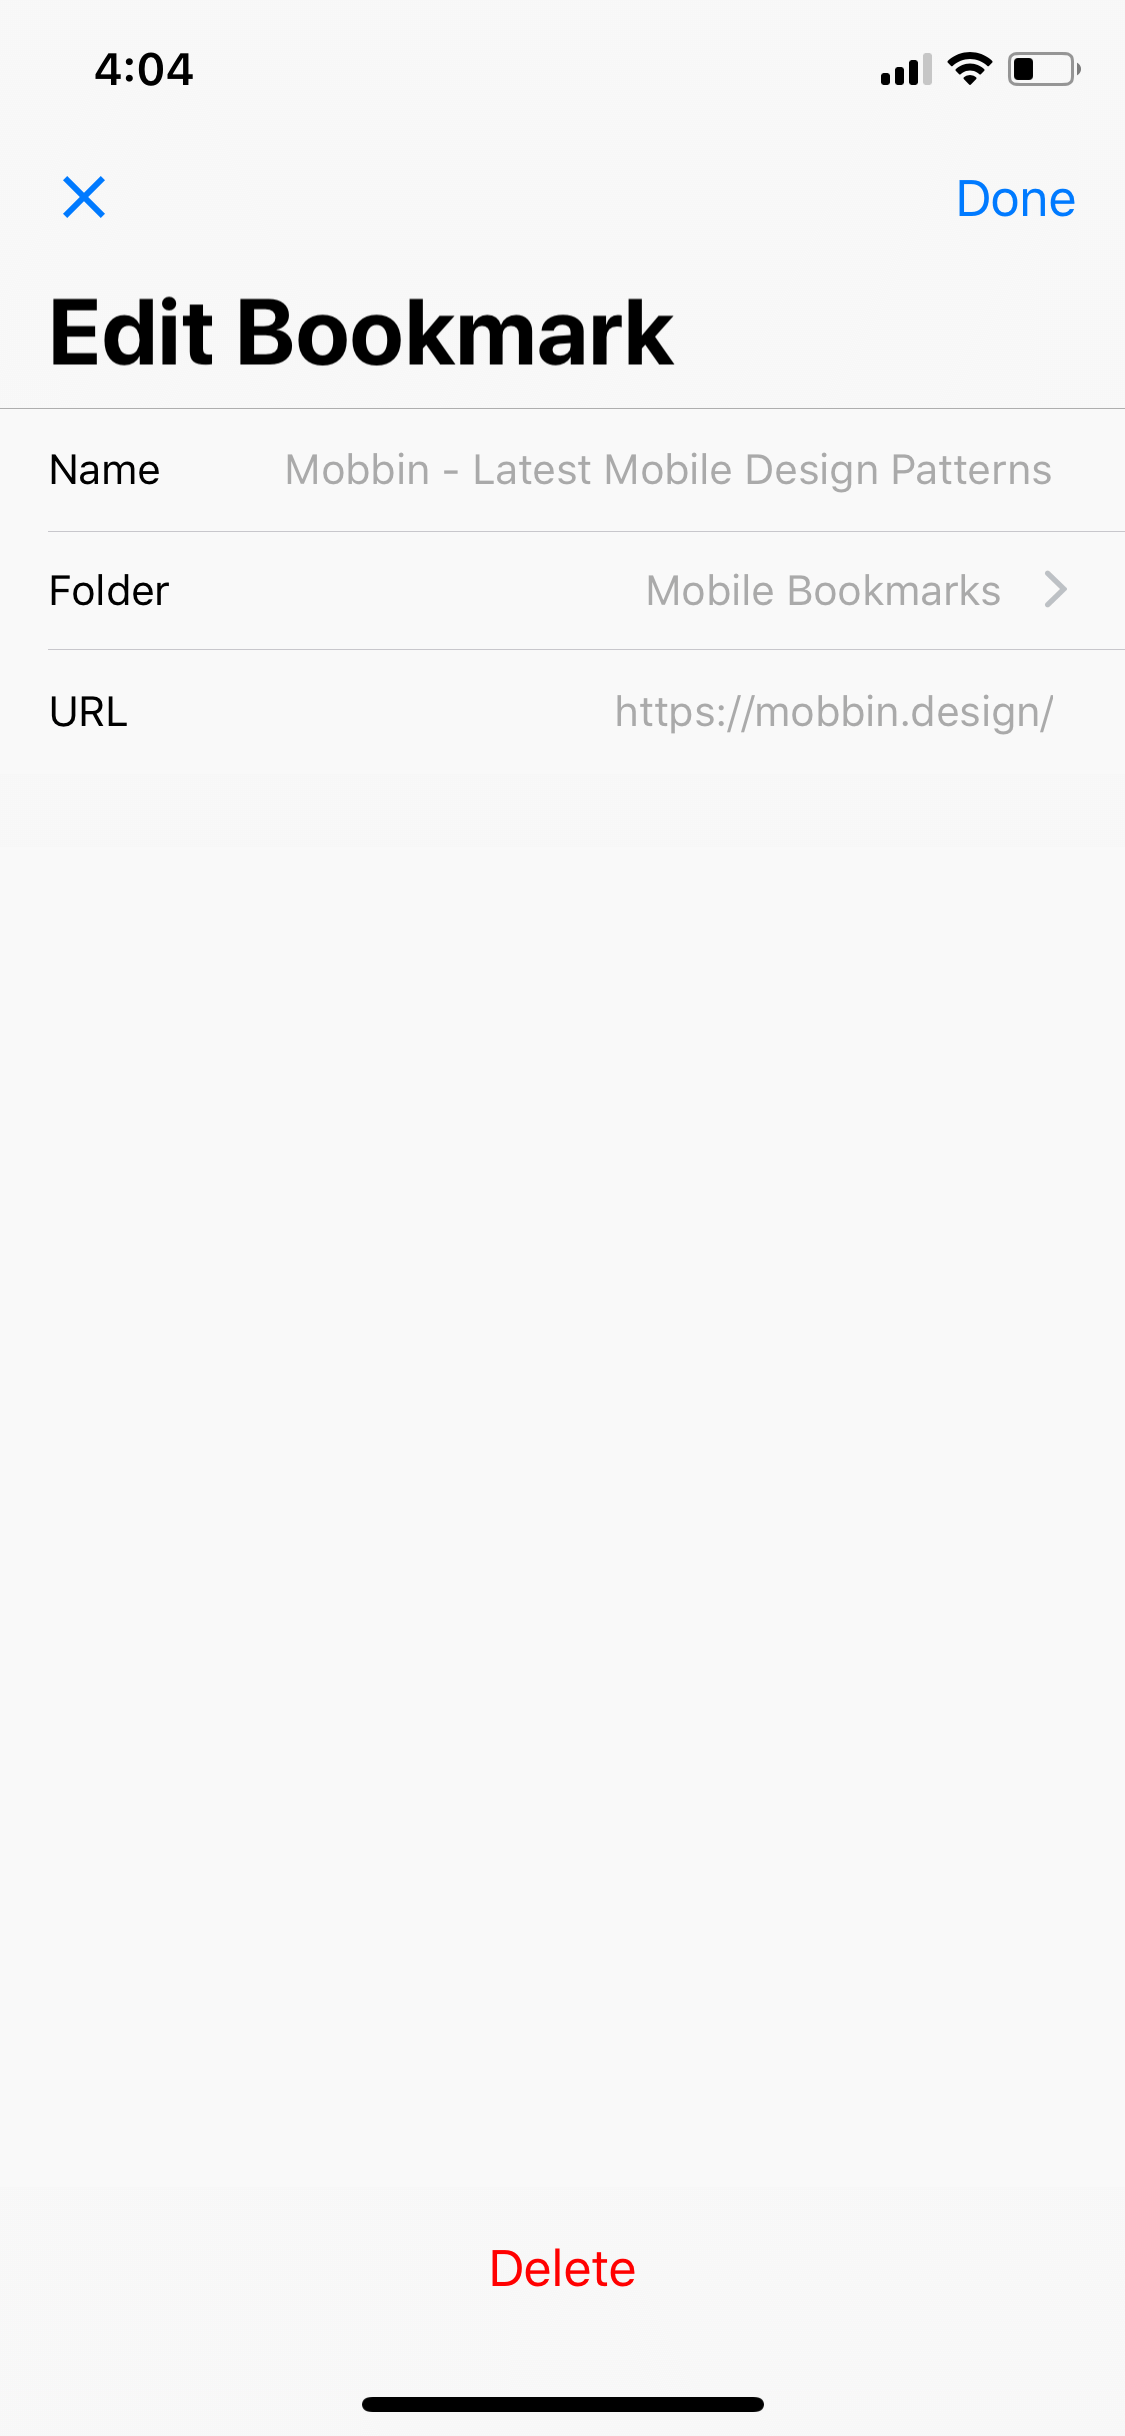Buttons: (312, 2183, 813, 2338), (909, 152, 1106, 259), (22, 137, 145, 256)
